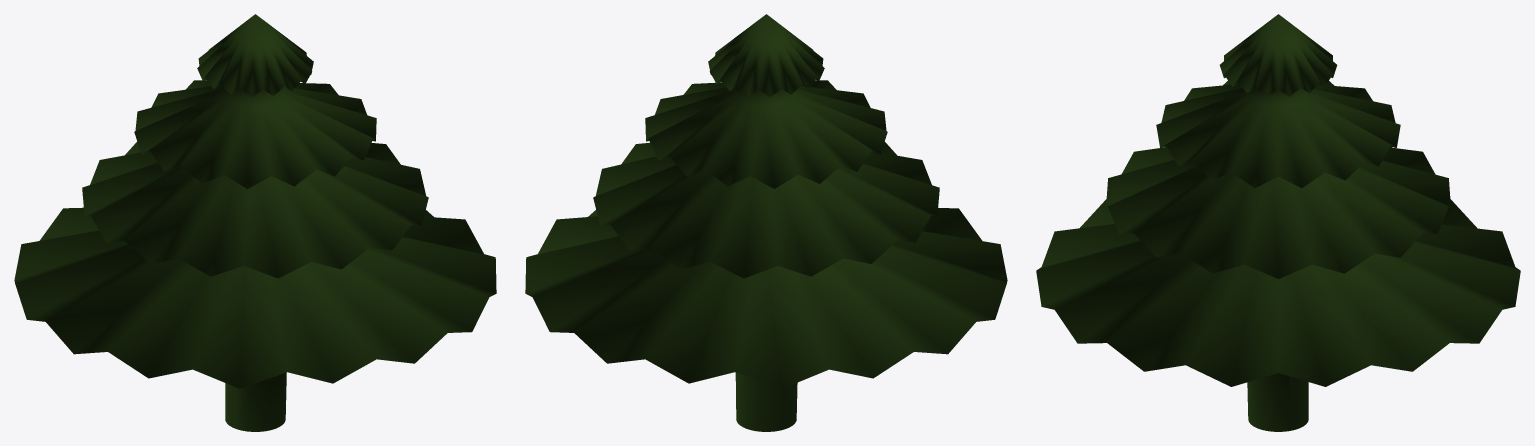
Rendered from tree.fbx.
The picture shows the model from 3 angles, left to right: view 1: azimuth 30°, elevation 25°; view 2: azimuth 150°, elevation 25°; view 3: azimuth 270°, elevation 25°; orthographic projection.
Visible parts, largest first — view 1: Cylinder; view 2: Cylinder; view 3: Cylinder.
Boxes of the visible parts, x1=… form: Cylinder: x1=14, y1=14, x2=496, y2=431; Cylinder: x1=525, y1=14, x2=1007, y2=431; Cylinder: x1=1036, y1=14, x2=1520, y2=431.
Size of the model in its own units: 2347 by 2165 by 2347.
